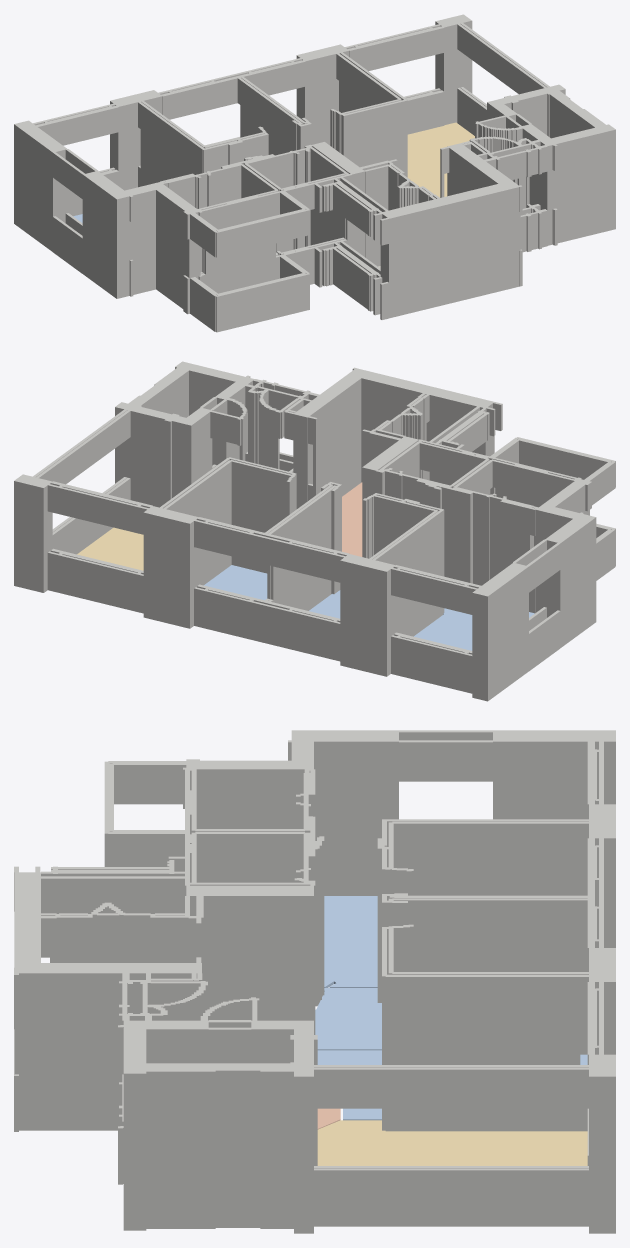
The picture shows the model from 3 angles, top to bottom: view 1: azimuth 30°, elevation 25°; view 2: azimuth 150°, elevation 25°; view 3: azimuth 270°, elevation 25°; orthographic projection. The views are drawn at different scales.
Visible parts, largest first — view 1: walls, room:living:5; view 2: walls, room:living:5, room:bedroom:0, room:bedroom:4, room:kitchen:9, room:bedroom:3; view 3: walls, room:living:5, room:bedroom:0, room:bedroom:3, room:bedroom:4.
Part boxes in pixels (left/top/right/bottom): walls: left=14, top=14, right=615, bottom=332; room:living:5: left=407, top=122, right=474, bottom=197; walls: left=14, top=361, right=615, bottom=701; room:living:5: left=77, top=527, right=143, bottom=570; room:bedroom:0: left=414, top=608, right=534, bottom=650; room:bedroom:4: left=204, top=565, right=267, bottom=600; room:kitchen:9: left=342, top=482, right=362, bottom=556; room:bedroom:3: left=309, top=590, right=340, bottom=618; walls: left=14, top=730, right=615, bottom=1233; room:living:5: left=317, top=1120, right=587, bottom=1165; room:bedroom:0: left=324, top=896, right=377, bottom=987; room:bedroom:3: left=315, top=988, right=381, bottom=1050; room:bedroom:4: left=317, top=1050, right=587, bottom=1120.
Size of the model in its own units: 13.23 by 2.8 by 9.72.
